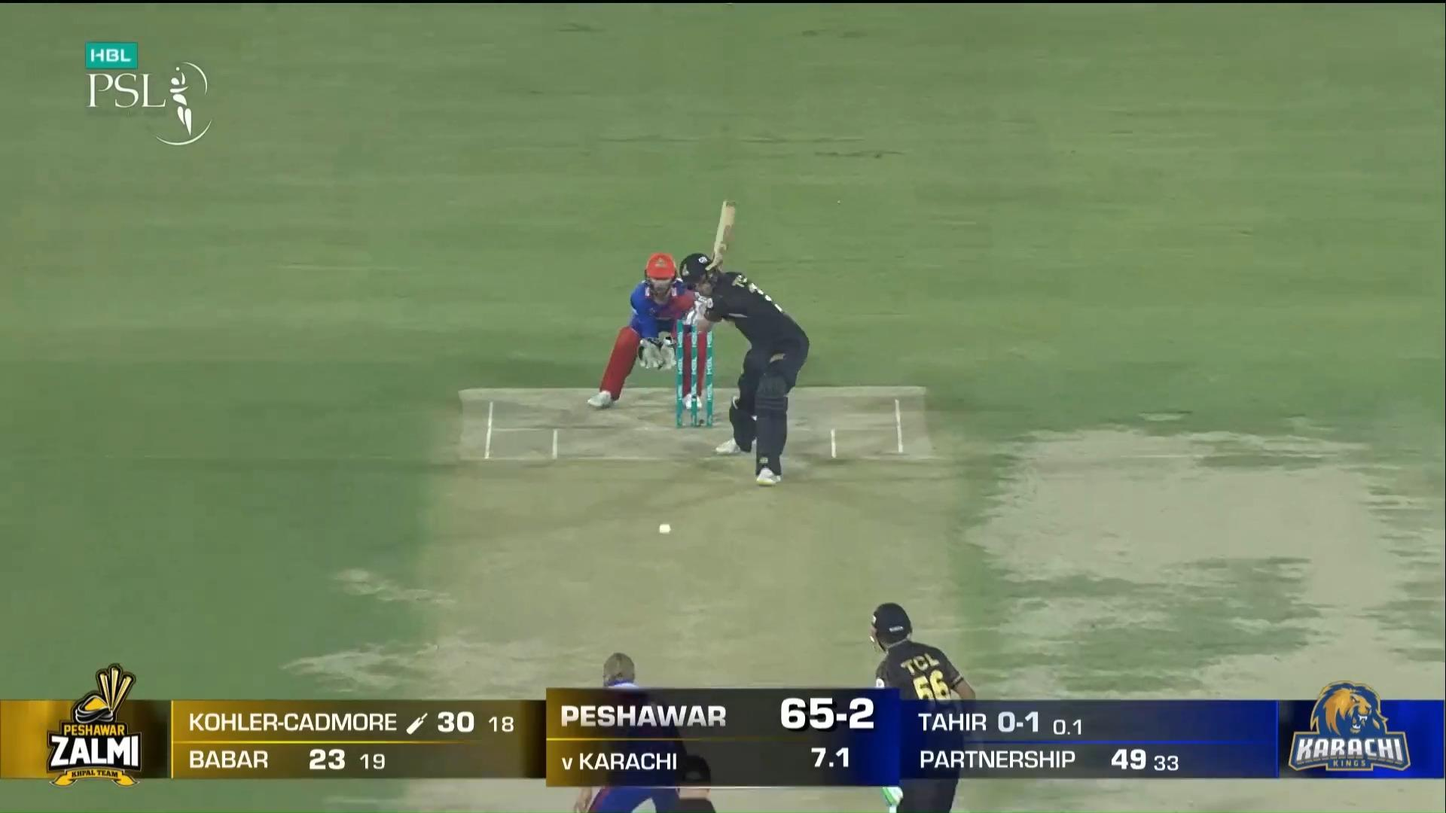batsman: (679, 198, 809, 487)
